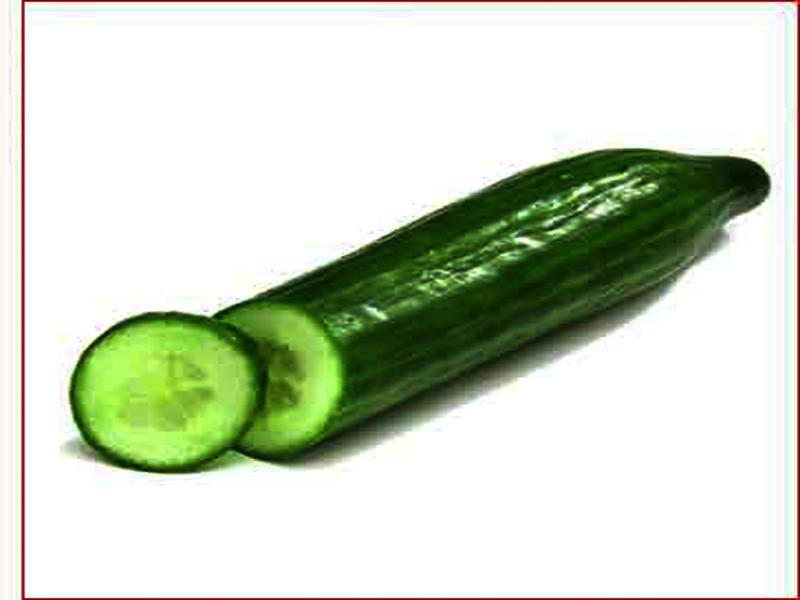Cucumber: (204, 150, 770, 460)
